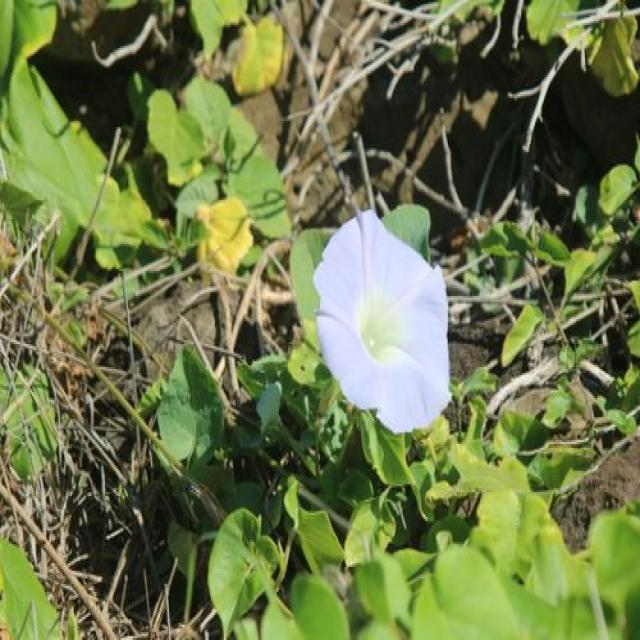ipomoea: (310, 206, 454, 438)
